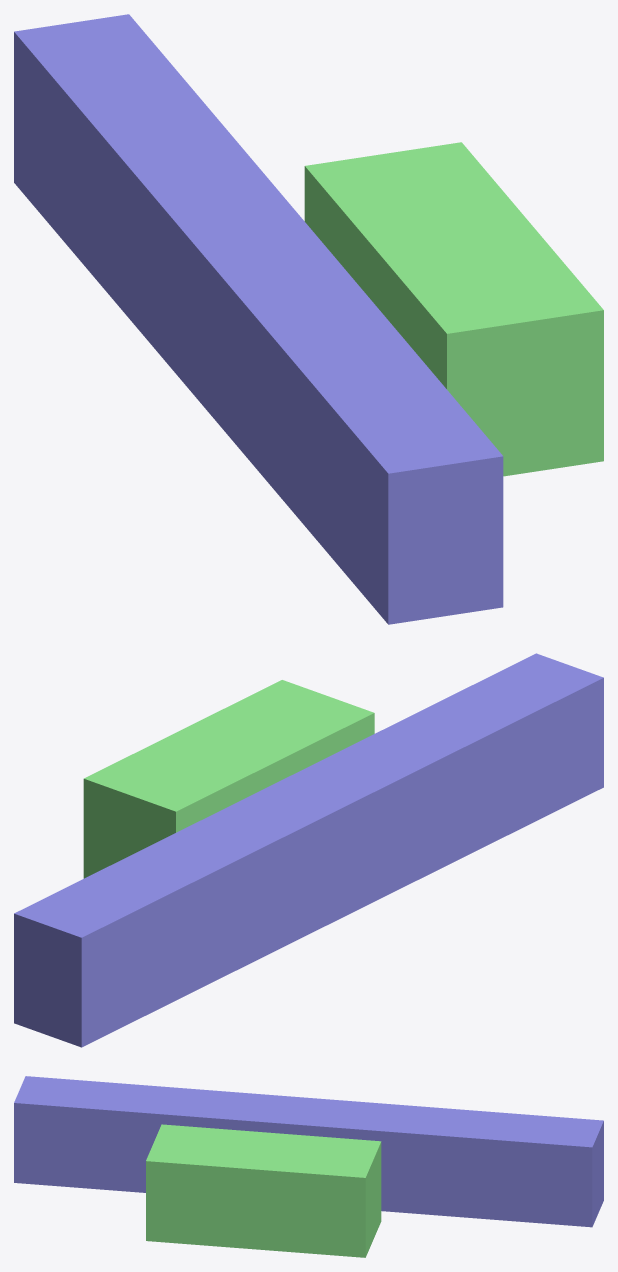
3 views of the same model, one above another, from view 1: azimuth 30°, elevation 25°; view 2: azimuth 150°, elevation 25°; view 3: azimuth 270°, elevation 25° (orthographic). The views are drawn at different scales.
Parts seen in each view (by area): view 1: RC-AO-base_LINK, RC-AO-base_LINK.001; view 2: RC-AO-base_LINK, RC-AO-base_LINK.001; view 3: RC-AO-base_LINK, RC-AO-base_LINK.001.
Boxes of the visible parts, x1,y1,x2,y2 form: RC-AO-base_LINK: (14, 14, 503, 624); RC-AO-base_LINK.001: (304, 142, 603, 476); RC-AO-base_LINK: (14, 653, 603, 1047); RC-AO-base_LINK.001: (83, 680, 374, 878); RC-AO-base_LINK: (14, 1076, 603, 1227); RC-AO-base_LINK.001: (146, 1124, 381, 1257).
Size of the model in its own units: 0.082 by 0.03 by 0.2007.
